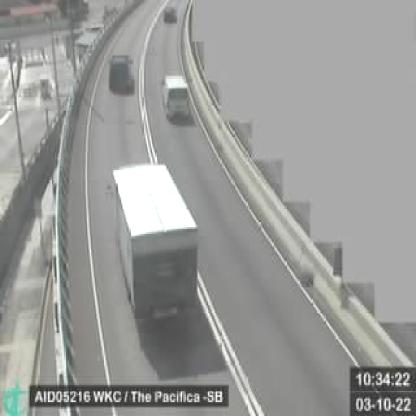Car: (159, 73, 195, 125), (106, 52, 132, 94), (161, 5, 177, 23)
Truck: (110, 161, 197, 340)
